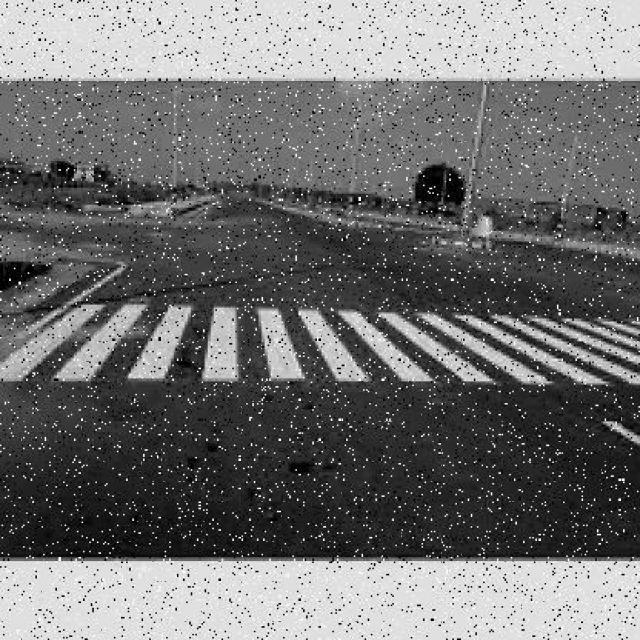crosswalk: (0, 303, 639, 385)
